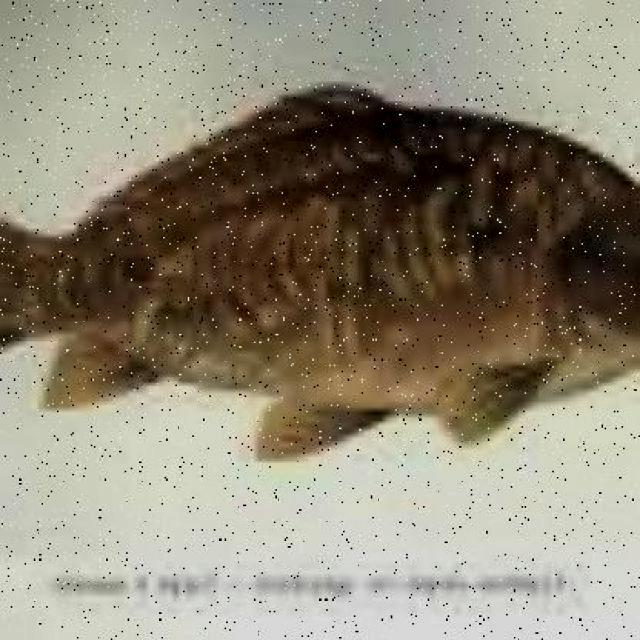ikan-mas: (0, 83, 640, 452)
